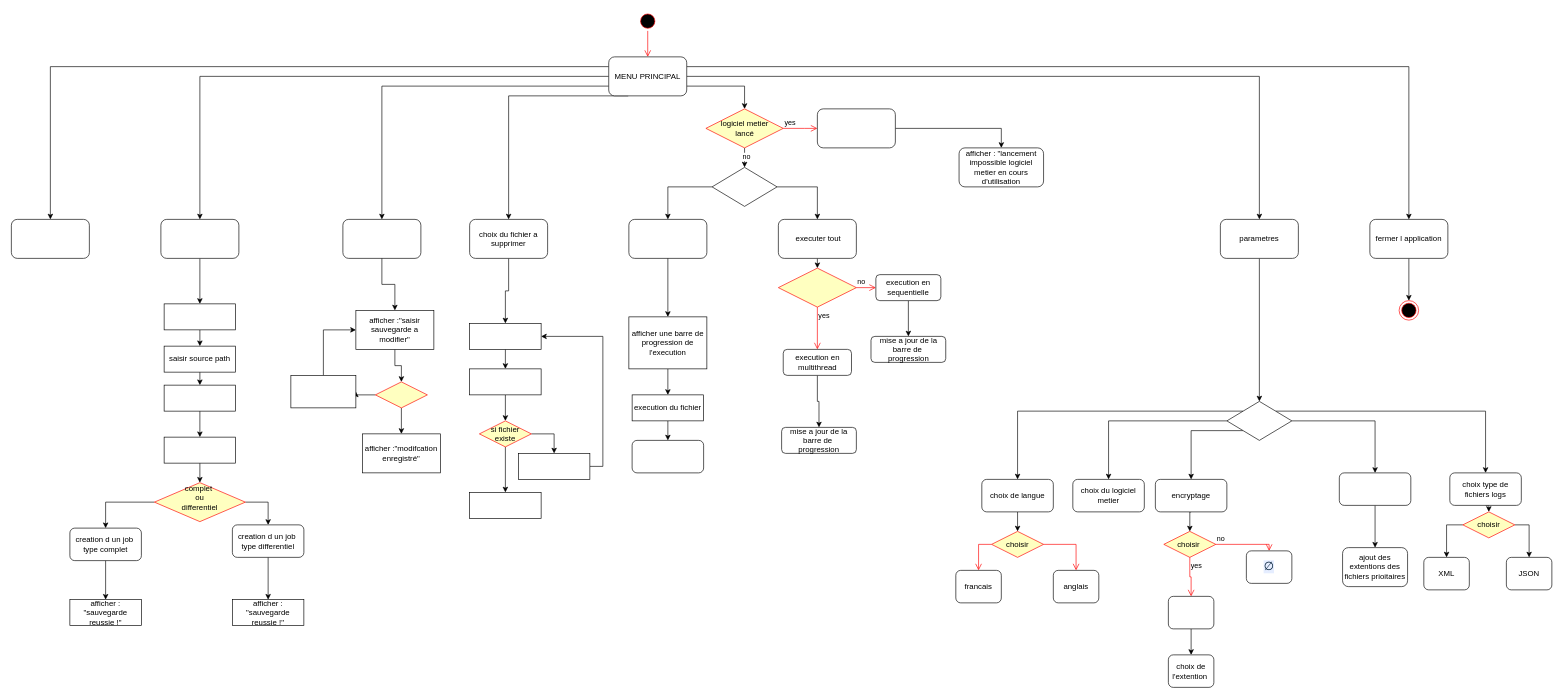
Image size: 1563x699. Some labels were removed from this diagram. The shapes that lost their labels are listed below. From the top down, each one's centre as x and y in pixels, then its label:
the point at 856,128: execution non lancée
the point at 50,238: afficher les jobs
the point at 199,238: ajouter
the point at 381,238: modifier
the point at 667,238: executer
the point at 817,287: somme de la taille des fichiers < 100 ko
the point at 199,316: saisir nom fichier
the point at 505,336: afficher "supprimer un fichier
the point at 199,397: saisir destination path
the point at 323,391: afficher :"une erreure c est produite"
the point at 401,394: saisie valide
the point at 505,381: saisir l'ID du fichier a supprimer
the point at 199,449: saisir type de sauvegarde
the point at 554,466: afficher : "erreur fichier non repertorié
the point at 667,456: mise a jouir de la barre de progression
the point at 505,505: afficher : "fichier supprimé"
the point at 1375,488: fichier prioritaire
the point at 1191,612: choix de la clé
